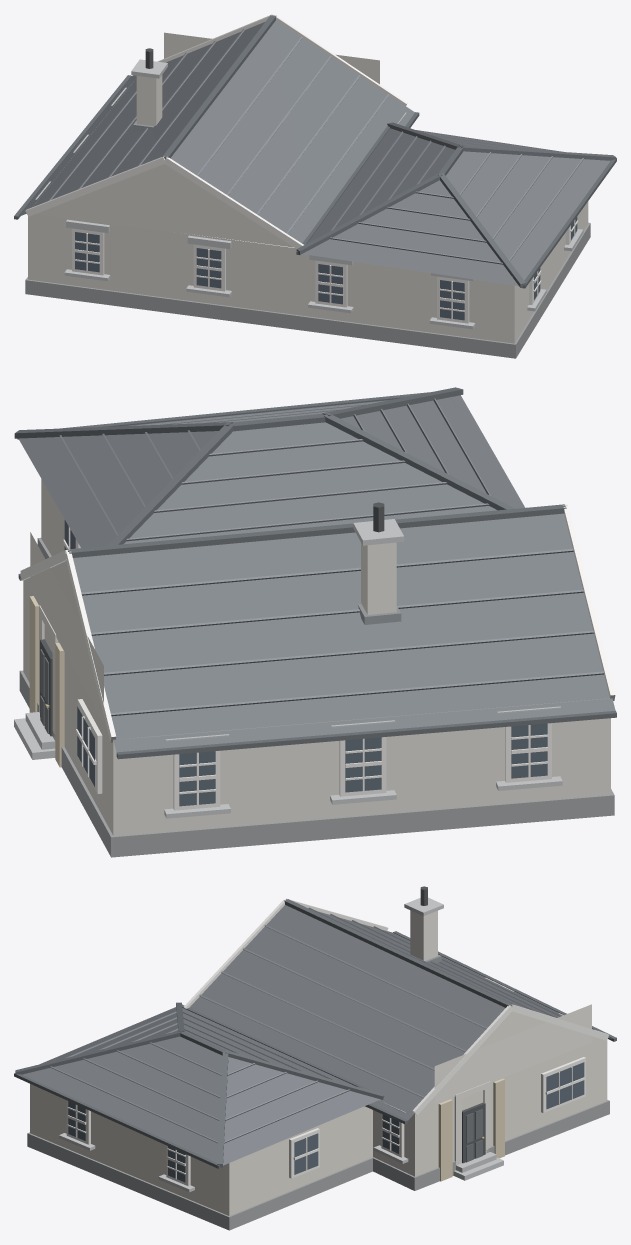
The picture shows the model from 3 angles, top to bottom: view 1: azimuth 30°, elevation 25°; view 2: azimuth 150°, elevation 25°; view 3: azimuth 270°, elevation 25°; orthographic projection. The views are drawn at different scales.
Visible parts, largest first — view 1: slate, harl_grey, plinth, slate_dk, frame, slate_lt, stone_band, chim_render, string, window_glass_004, window_glass_005, window_glass_003 (+1 smaller); view 2: slate, harl_grey, slate_dk, slate_lt, plinth, frame, string, stone_band, chim_render, ss, window_glass_008, window_glass_009 (+3 smaller); view 3: slate, harl_grey, slate_dk, plinth, slate_lt, string, frame, ss, stone_band, chim_render, window_glass_001, window_glass_002 (+3 smaller).
Part boxes in pixels (box(x1,y1,x2,y2)): slate: box(18, 20, 610, 285); harl_grey: box(28, 84, 588, 343); plinth: box(25, 222, 590, 358); slate_dk: box(14, 15, 616, 288); frame: box(25, 14, 578, 323); slate_lt: box(48, 29, 583, 264); stone_band: box(35, 59, 583, 329); chim_render: box(136, 75, 162, 126); string: box(164, 32, 379, 84); window_glass_004: box(196, 248, 221, 288); window_glass_005: box(318, 264, 342, 304); window_glass_003: box(75, 232, 99, 272); slate: box(19, 395, 615, 752); harl_grey: box(23, 397, 610, 835); slate_dk: box(14, 387, 616, 759); slate_lt: box(59, 398, 604, 716); plinth: box(19, 537, 614, 857); frame: box(20, 504, 615, 810); string: box(30, 532, 103, 740); stone_band: box(14, 519, 562, 818); chim_render: box(361, 542, 396, 614); ss: box(29, 596, 64, 767); window_glass_008: box(345, 737, 381, 792); window_glass_009: box(511, 723, 547, 778); slate: box(22, 905, 612, 1165); harl_grey: box(30, 932, 607, 1215); slate_dk: box(14, 899, 616, 1168); plinth: box(27, 1100, 609, 1230); slate_lt: box(50, 907, 561, 1143); string: box(434, 1004, 591, 1164); frame: box(66, 898, 609, 1186); ss: box(438, 1078, 504, 1181); stone_band: box(59, 897, 563, 1192); chim_render: box(410, 910, 437, 960); window_glass_001: box(546, 1062, 584, 1109); window_glass_002: box(294, 1133, 318, 1174).
Size of the model in its own units: 17.2 by 6.27 by 18.51.
